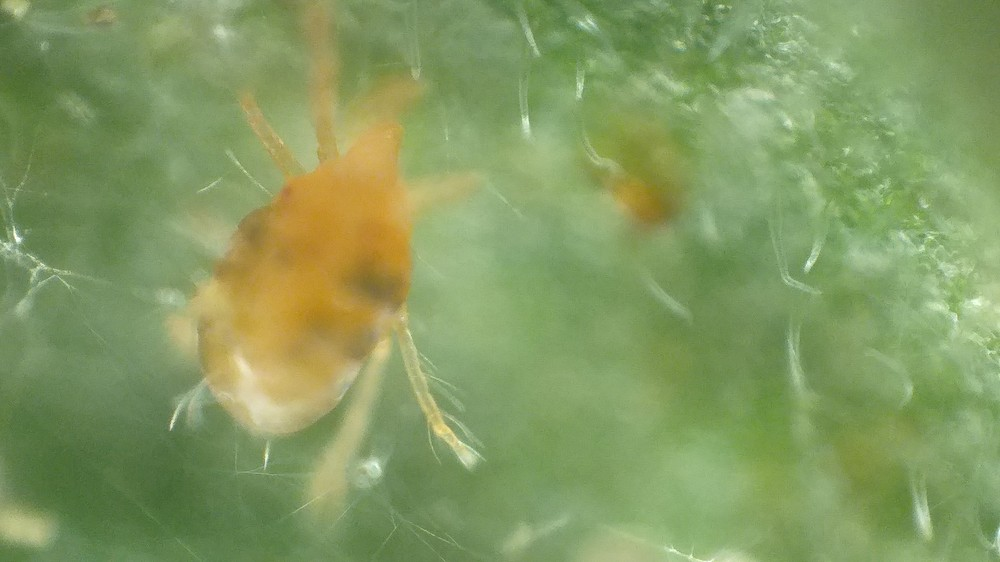Aracnido Rojo: (173, 27, 509, 503)
